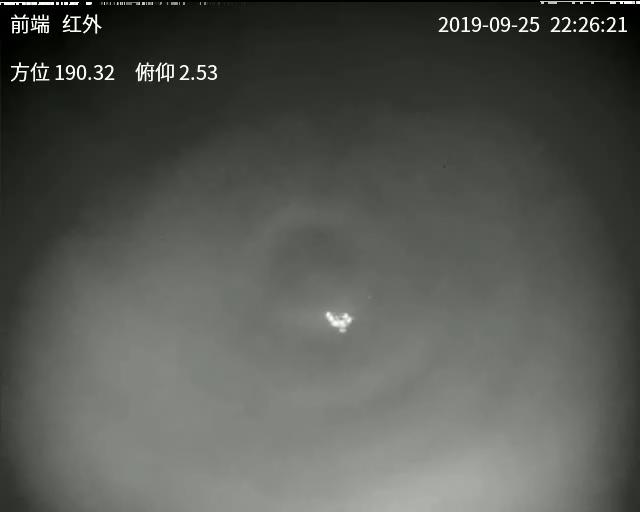uav: (323, 307, 357, 341)
